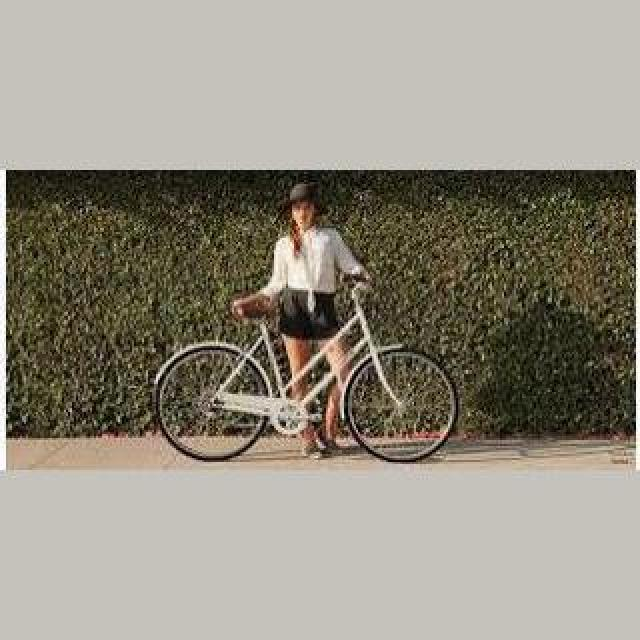MC-Bike: (230, 182, 374, 452)
Person: (155, 292, 457, 466)
